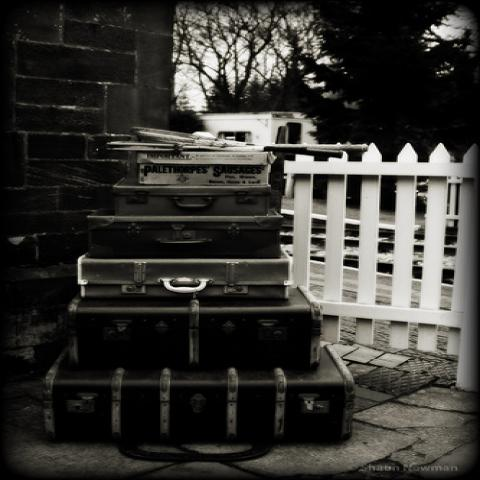truck: (202, 112, 319, 144)
